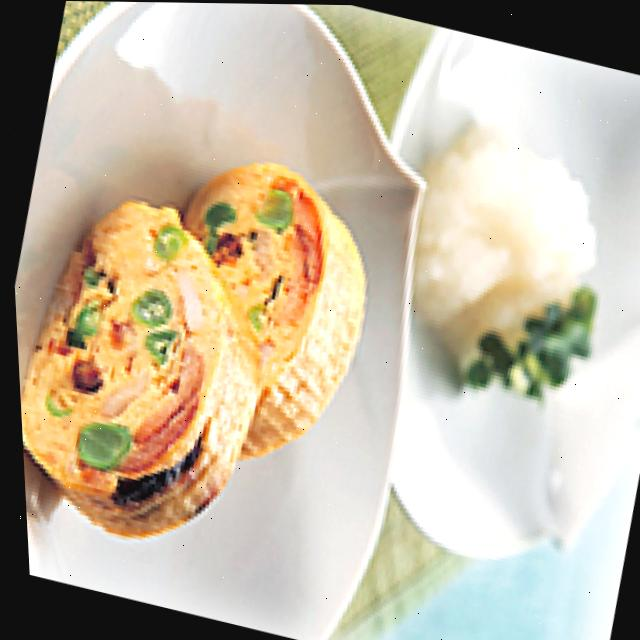鸡蛋料理: (3, 83, 425, 597)
